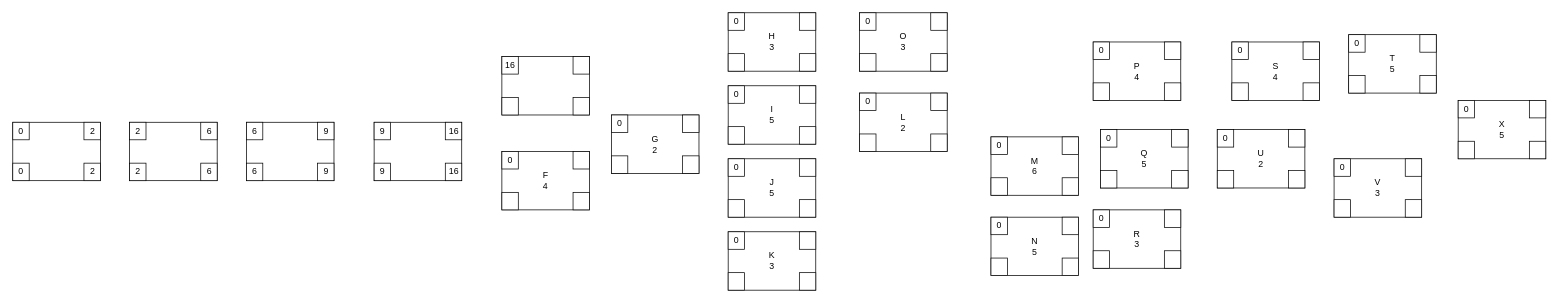
Some shapes in this 1559 by 303 pixel diagram are drawn without their labels. The shapes that lost their labels are listed below. From the top down, each one's box as (x1, y1, x2, y2) in pixels, then its label:
(501, 56, 589, 115): E 5
(12, 122, 100, 181): A 3
(129, 122, 217, 181): B 4
(246, 122, 334, 181): C 3
(373, 122, 462, 181): D 7
